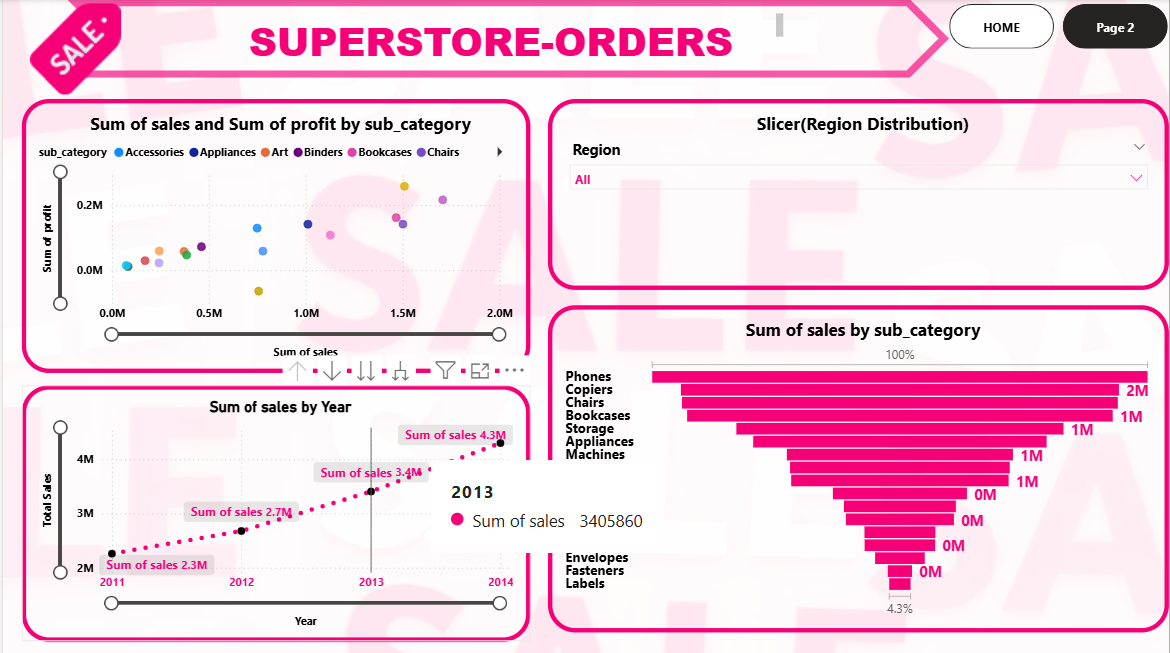

Layout of this report page (visuals, bound fields, positions):
{"tool":"powerbi","page":{"name":"Page 2","canvas":[1280,720],"ordinal":1},"visuals":[{"type":"shape","box":[70.2,0,968.5,86.4],"z":0,"group":"g1"},{"type":"scatterChart","fields":{"X":["Sum(SuperStoreOrders.sales)"],"Y":["Sum(SuperStoreOrders.profit)"],"Series":["SuperStoreOrders.sub_category"]},"box":[20.6,109.8,558.5,300.5],"z":0},{"type":"textbox","box":[218.1,11,643.2,65.9],"z":1000,"group":"g1"},{"type":"slicer","title":"Slicer(Region Distribution)","fields":{"Values":["SuperStoreOrders.region"]},"box":[598.3,109.8,682,209.9],"z":1000},{"type":"group","id":"g1","title":"Group 1","box":[0,0,1038.8,109.8],"z":2000},{"type":"image","box":[0,0,159,109.8],"z":2000,"group":"g1"},{"type":"funnel","fields":{"Category":["SuperStoreOrders.sub_category"],"Y":["Sum(SuperStoreOrders.sales)"]},"box":[598.3,336.2,682,359.5],"z":3000},{"type":"lineChart","fields":{"Category":["SuperStoreOrders.order_date.Variation.Date Hierarchy.Year","SuperStoreOrders.order_date.Variation.Date Hierarchy.Quarter","SuperStoreOrders.order_date.Variation.Date Hierarchy.Month","SuperStoreOrders.order_date.Variation.Date Hierarchy.Day"],"Y":["Sum(SuperStoreOrders.sales)"]},"box":[20.6,424,558.5,281.3],"z":4000},{"type":"pageNavigator","box":[1038.8,5.5,241.5,49.4],"z":5000}]}

Visuals, with their boxes in screenshot pixels (x1, y1, x2, y2), scaled from the page's 1280x720 canvas onto the 1170x653 screenshot:
shape: Rect(64, 0, 949, 78)
scatterChart - Sum(SuperStoreOrders.sales) x Sum(SuperStoreOrders.profit): Rect(19, 100, 529, 372)
textbox: Rect(199, 10, 787, 70)
"Slicer(Region Distribution)" slicer: Rect(547, 100, 1169, 290)
"Group 1" group: Rect(0, 0, 950, 100)
image: Rect(0, 0, 145, 100)
funnel - SuperStoreOrders.sub_category x Sum(SuperStoreOrders.sales): Rect(547, 305, 1169, 631)
lineChart - SuperStoreOrders.order_date.Variation.Date Hierarchy.Year x SuperStoreOrders.order_date.Variation.Date Hierarchy.Quarter: Rect(19, 385, 529, 640)
pageNavigator: Rect(950, 5, 1169, 50)
